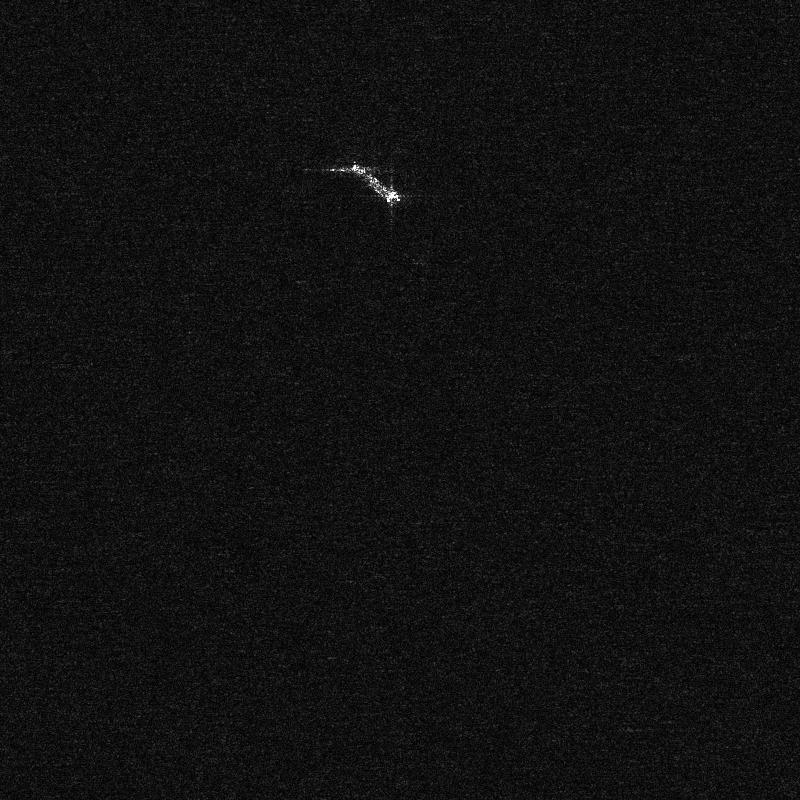ship: (349, 162, 400, 204)
